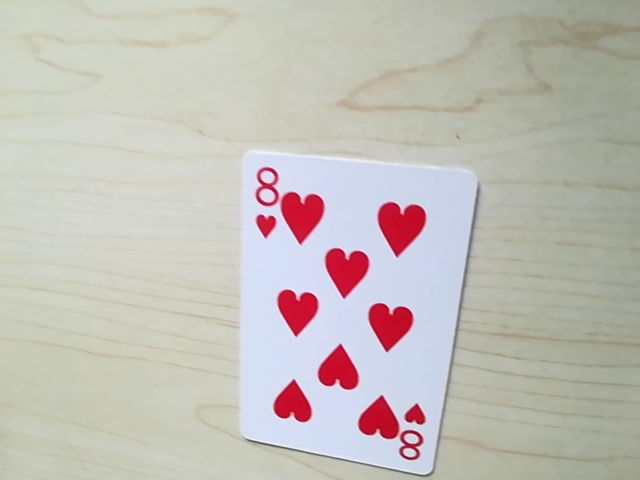hx 8: (387, 413, 434, 468), (252, 157, 290, 210)
